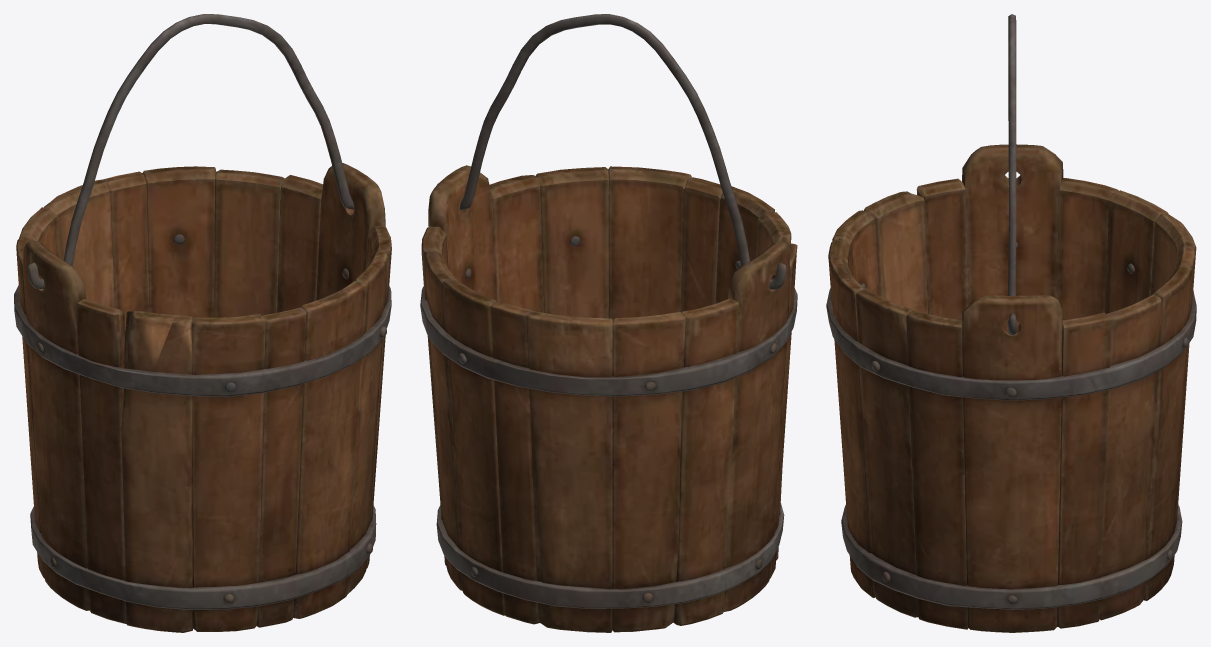
File: wooden_bucket_01.glb
3 views of the same model, side by side, from view 1: azimuth 30°, elevation 25°; view 2: azimuth 150°, elevation 25°; view 3: azimuth 270°, elevation 25° (orthographic).
Visible parts, largest first — view 1: wooden_bucket_01; view 2: wooden_bucket_01; view 3: wooden_bucket_01.
Part boxes in pixels (<box>): wooden_bucket_01: <box>14,14,391,632</box>; wooden_bucket_01: <box>420,14,797,632</box>; wooden_bucket_01: <box>826,14,1196,632</box>.
Size of the model in its own units: 0.367 by 0.5499 by 0.3422.
Materials: 1 (1 with a texture image).
